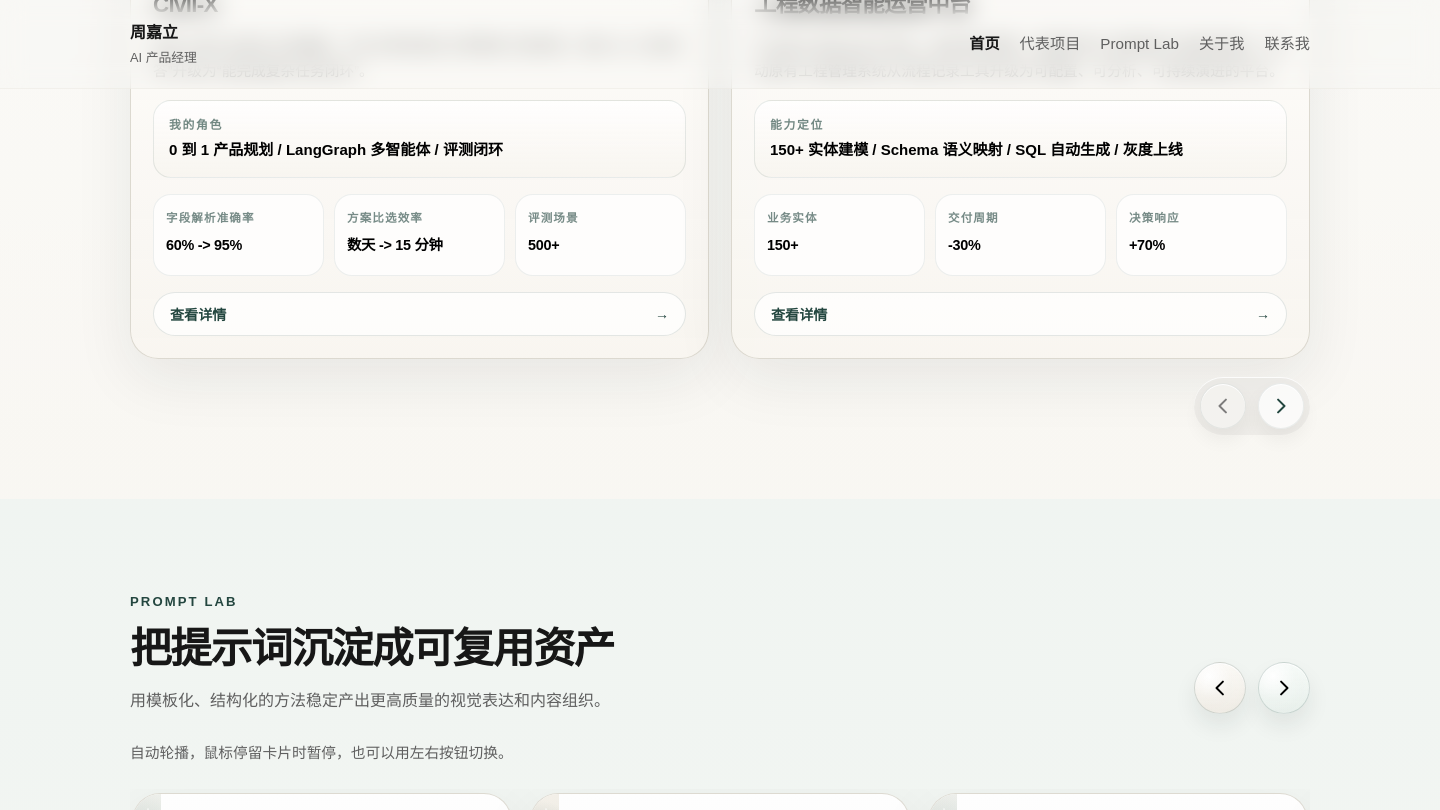
Test case: keeps the first two featured projects on the first homepage page and reveals the two prototype projects on the next page
The width and height of the screenshot is (1440, 810).
(page scrolled)
Click the button named "打开下一页代表项目" at (1281,406), box [1258,383,1304,429]
(page scrolled)
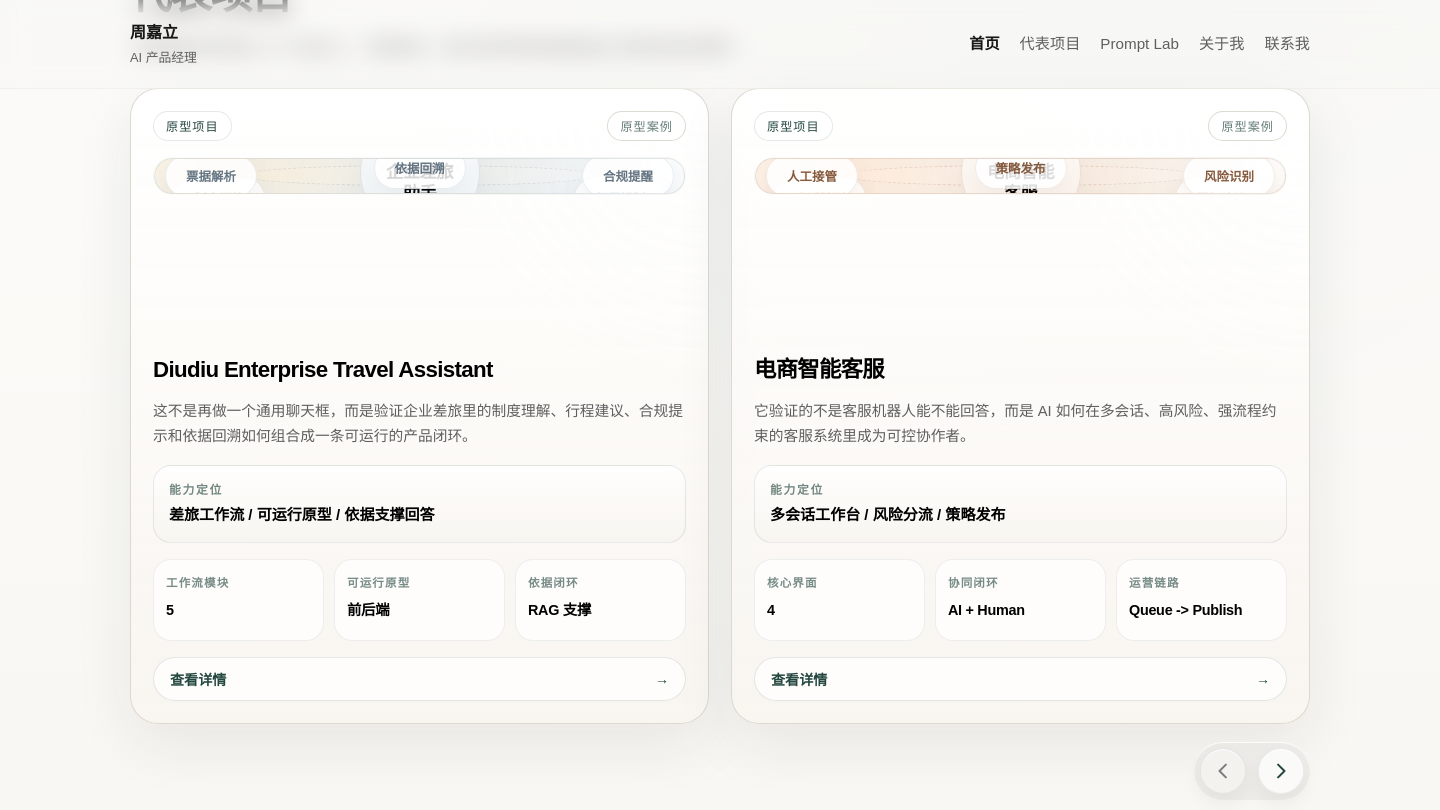
Check: the button with aria-label "代表项目：Diudiu Enterprise Travel Assistant" is shown, box [130,88,709,724]
Check: the button with aria-label "代表项目：电商智能客服" is shown, box [731,88,1310,724]
